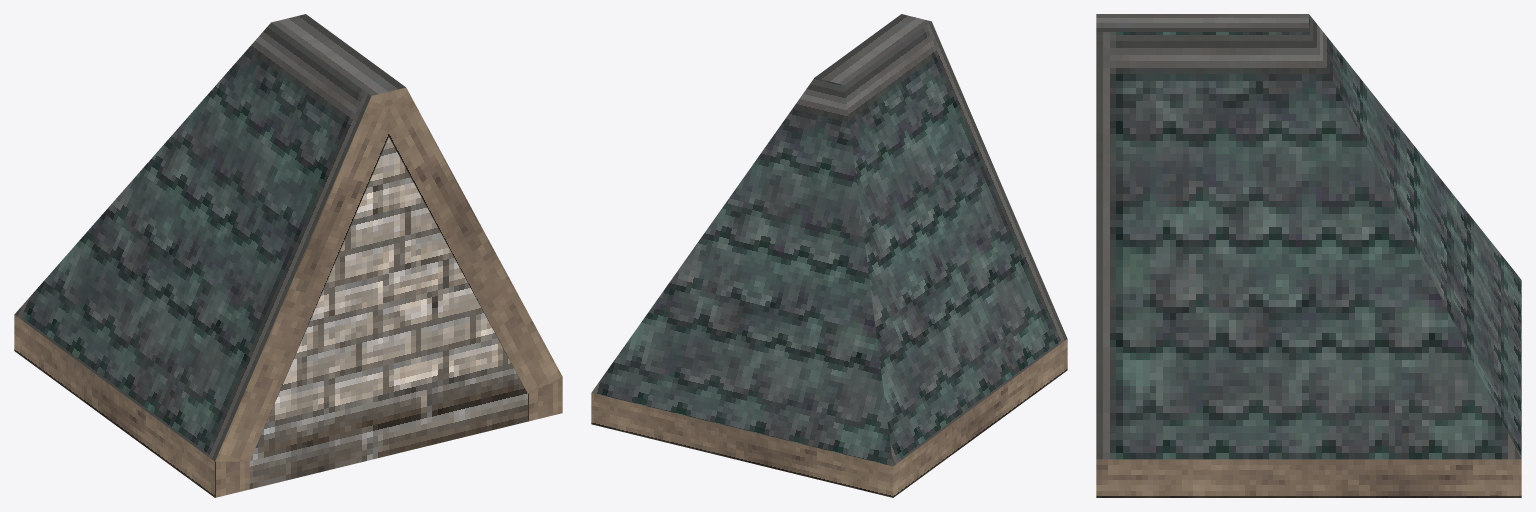
File: roof-edge_lev3.glb
3 views of the same model, side by side, from view 1: azimuth 30°, elevation 25°; view 2: azimuth 150°, elevation 25°; view 3: azimuth 270°, elevation 25° (orthographic). The views are drawn at different scales.
Visible parts, largest first — view 1: roof-edge_lev3; view 2: roof-edge_lev3; view 3: roof-edge_lev3.
Boxes of the visible parts, box(x1,y1,x2,y2) form: roof-edge_lev3: box(14, 14, 562, 497); roof-edge_lev3: box(591, 14, 1067, 497); roof-edge_lev3: box(1096, 14, 1521, 497).
Size of the model in its own units: 8 by 8 by 8.
Materials: 4 (4 with a texture image).
